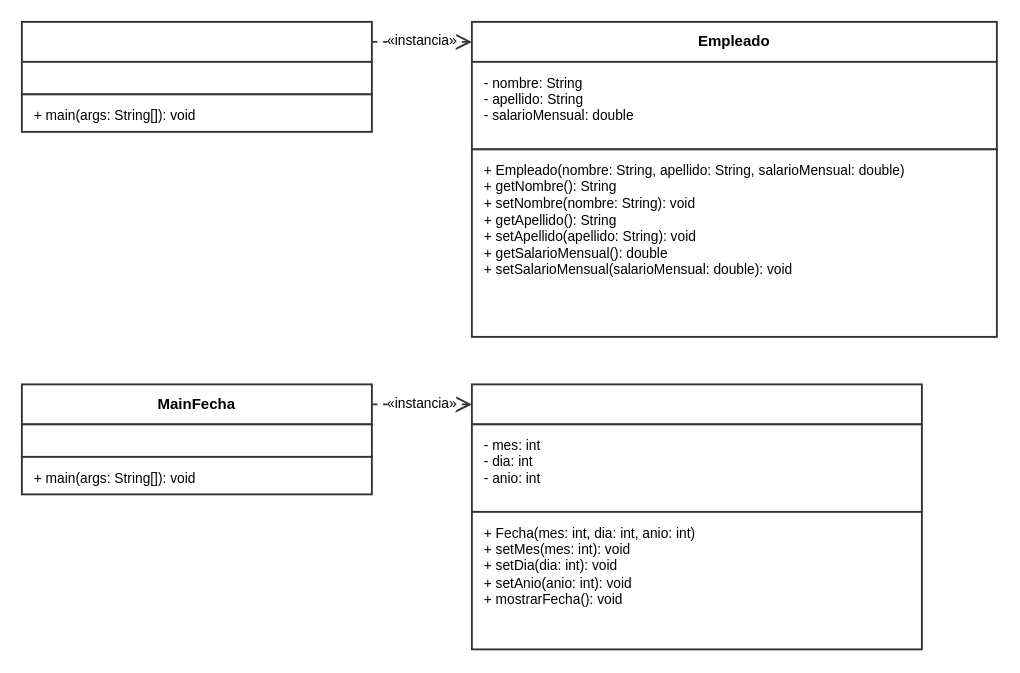
Some shapes in this 1020 by 673 pixel diagram are drawn without their labels. Here are the shapes that lost their labels. From the top down, the centre of each, then its label:
At (x=196, y=41): "MainEmpleado".
At (x=696, y=404): "Fecha".
